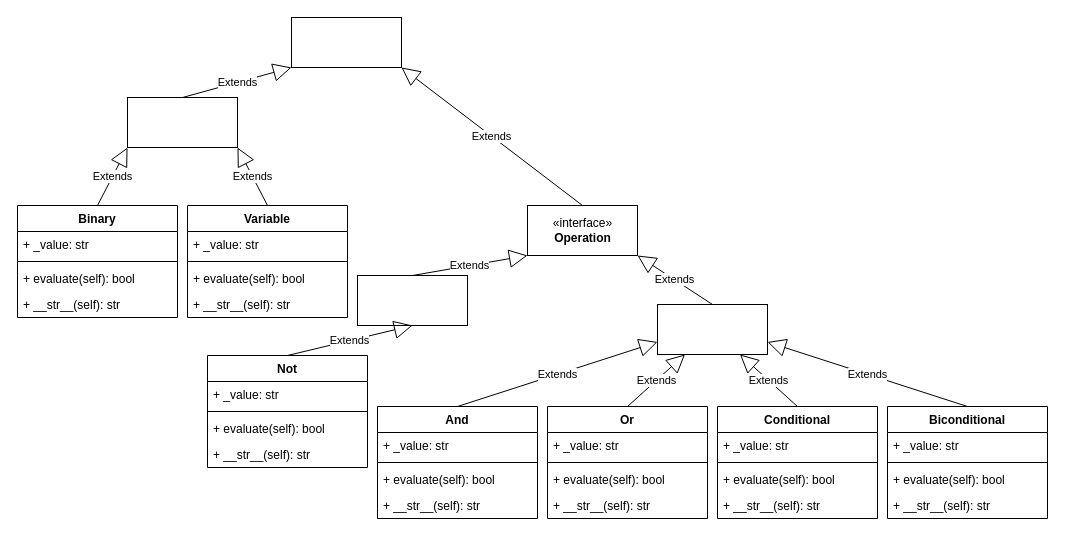
Some shapes in this 1065 by 539 pixel diagram are drawn without their labels. Here are the shapes that lost their labels. From the top down, the box of each, then its label:
(290, 16, 402, 68): «interface» Expression
(126, 96, 238, 148): «interface» Operand
(356, 274, 468, 326): «interface» UnaryOperation
(656, 304, 768, 354): «interface» BinaryOperation
